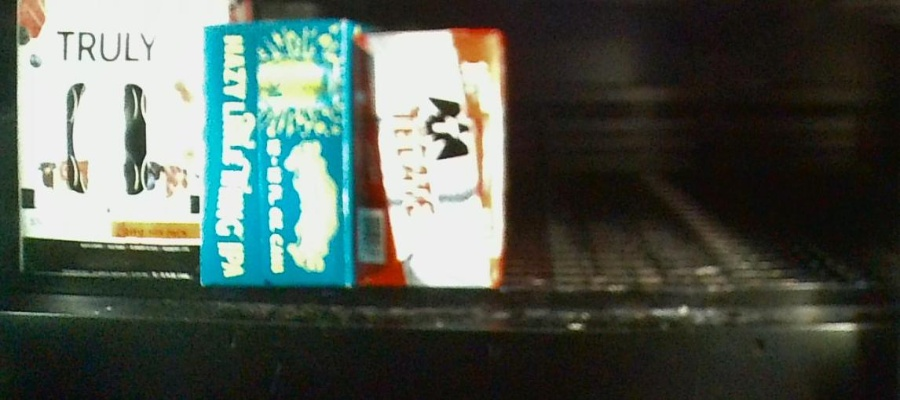bottle: (16, 1, 199, 285), (353, 29, 504, 293), (202, 23, 351, 285)
